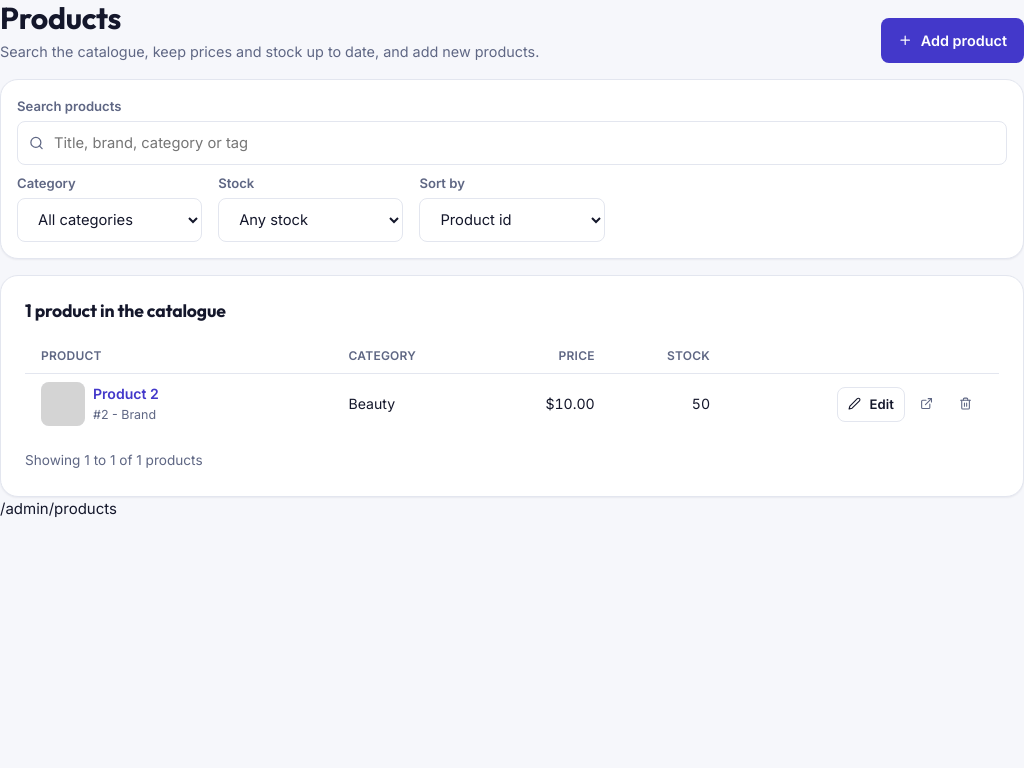
Test: AdminProducts › shows the API message inside the dialog when a delete fails
Expected: the link "Product 2" is shown, left=93, top=383, right=159, bottom=405
Click the button named "Delete Product 2": (965, 404) left=948, top=386, right=983, bottom=422
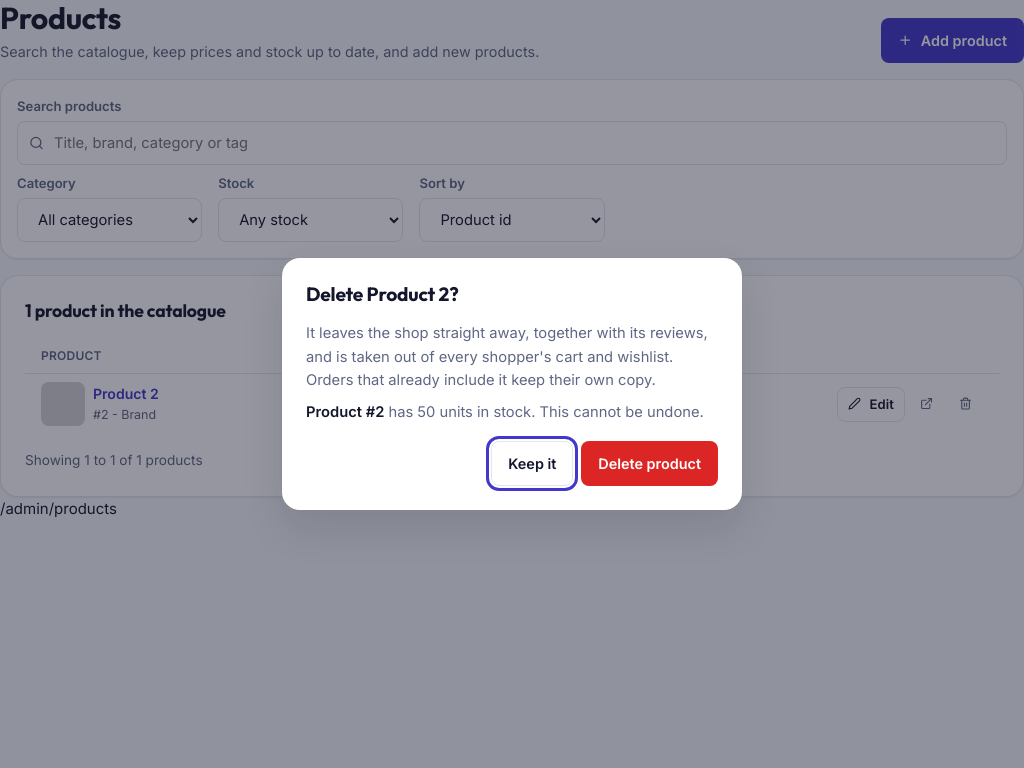
Click the button "Delete product": (650, 463) left=581, top=441, right=718, bottom=486
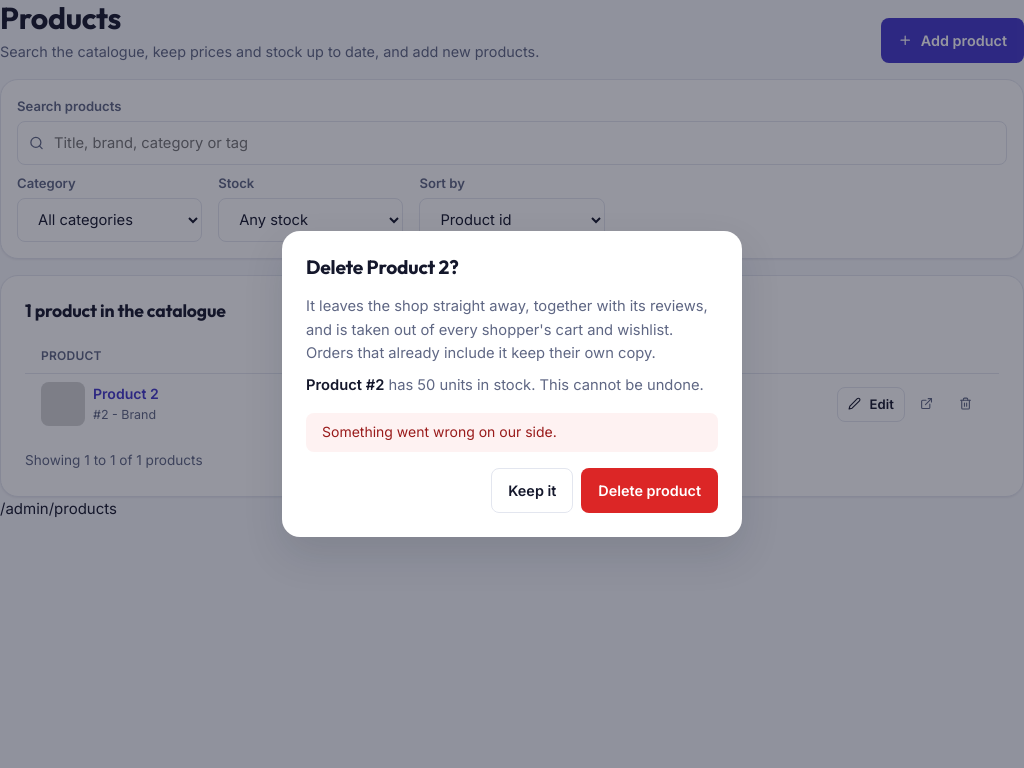
Expected: the link "Product 2" is shown, left=93, top=383, right=159, bottom=405
Now the message reads "Something went wrong on our side.", box left=322, top=423, right=557, bottom=440
